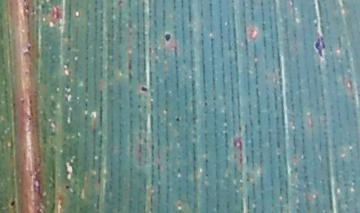tarspot: (313, 36, 327, 56), (163, 33, 174, 43), (140, 85, 150, 94), (9, 199, 18, 208), (64, 184, 71, 190), (175, 117, 180, 122)
